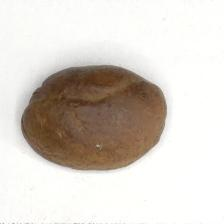NG: (33, 77, 154, 114)
